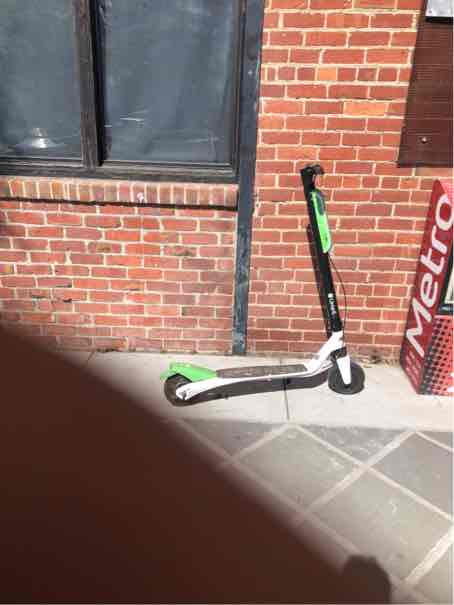scooter: (157, 143, 376, 419)
